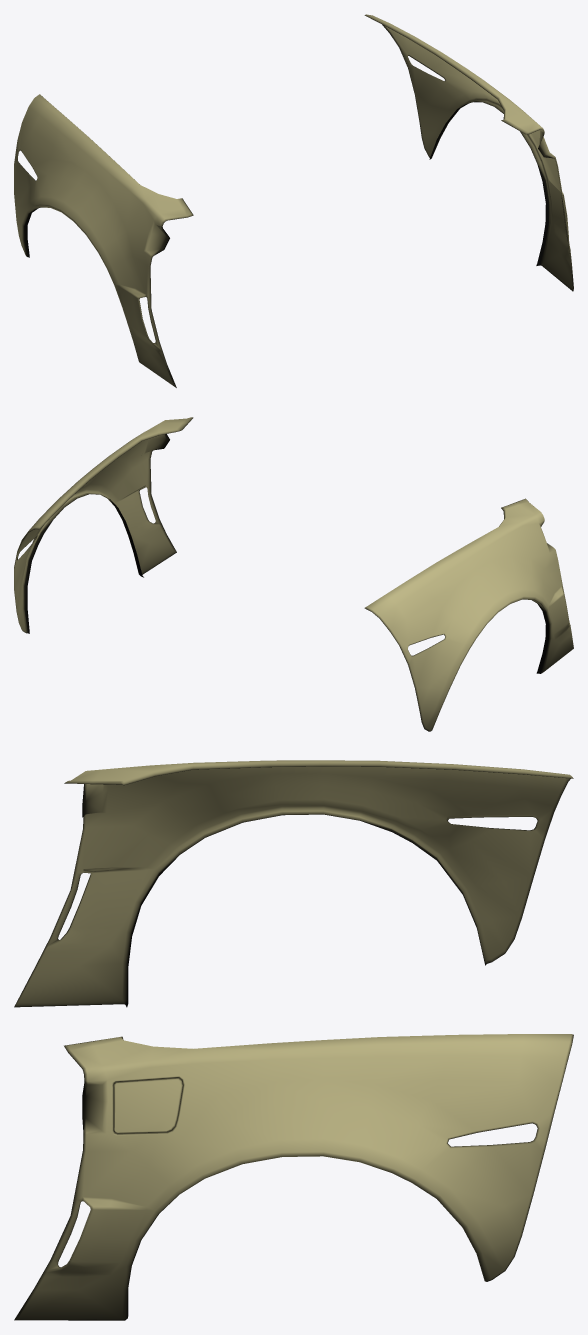
The model's file is Zr1_Fender_05_Duco.fbx.
The picture shows the model from 3 angles, top to bottom: view 1: azimuth 30°, elevation 25°; view 2: azimuth 150°, elevation 25°; view 3: azimuth 270°, elevation 25°; orthographic projection. The views are drawn at different scales.
Parts seen in each view (by area): view 1: Zr1_Fender_05_Duco; view 2: Zr1_Fender_05_Duco; view 3: Zr1_Fender_05_Duco.
Boxes of the visible parts, x1=… form: Zr1_Fender_05_Duco: x1=14, y1=14, x2=573, y2=387; Zr1_Fender_05_Duco: x1=14, y1=417, x2=573, y2=731; Zr1_Fender_05_Duco: x1=14, y1=760, x2=573, y2=1320.
Bounding box in the file's own units: 193 × 68.57 × 132.
